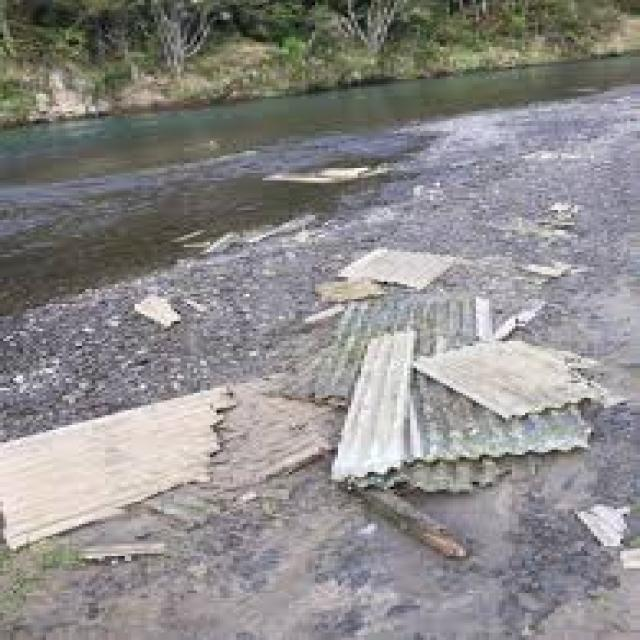dumping: (14, 246, 640, 548)
